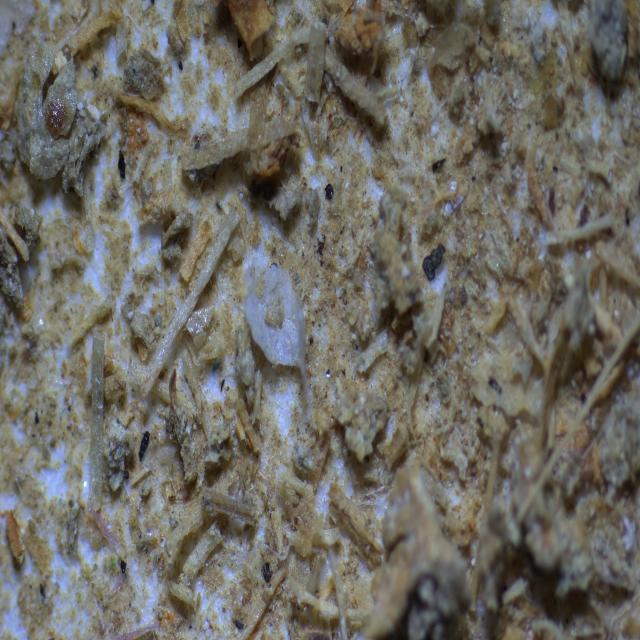microplastic: (240, 254, 313, 411)
